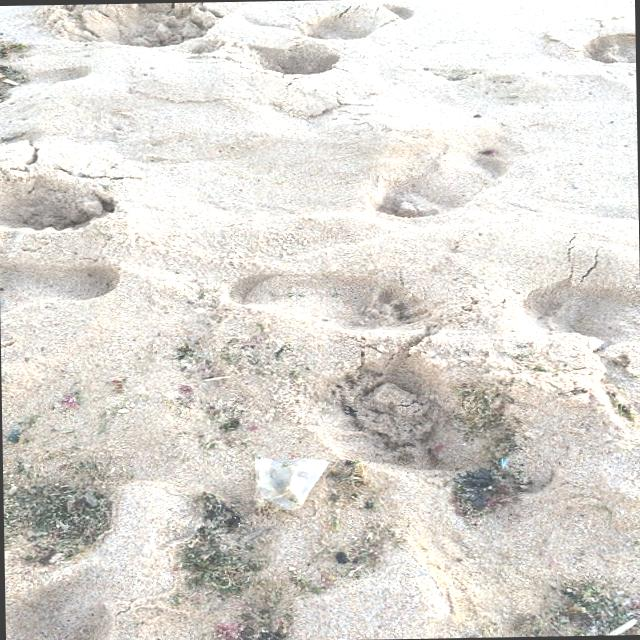Trash: (252, 453, 330, 511)
